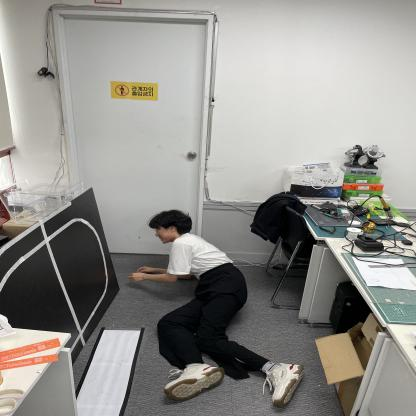fall: (130, 206, 302, 407)
